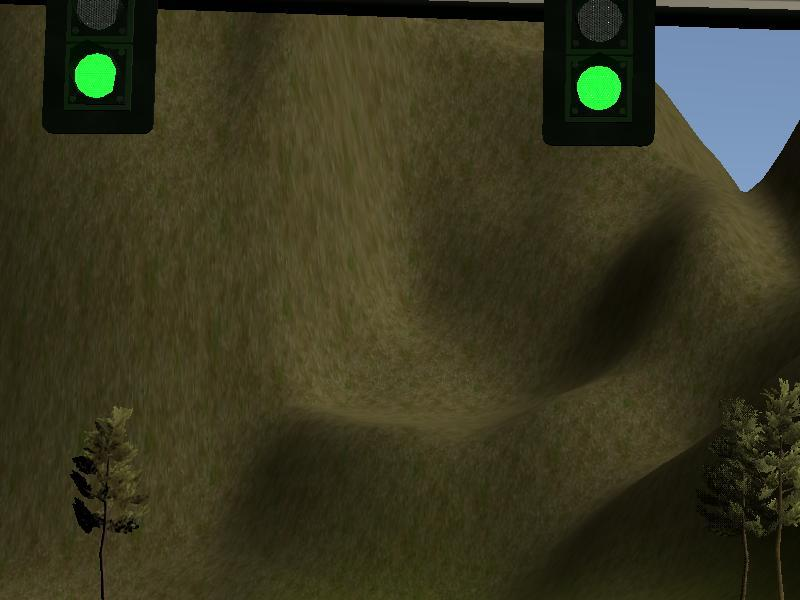Green: (542, 1, 655, 144), (38, 2, 153, 133)
